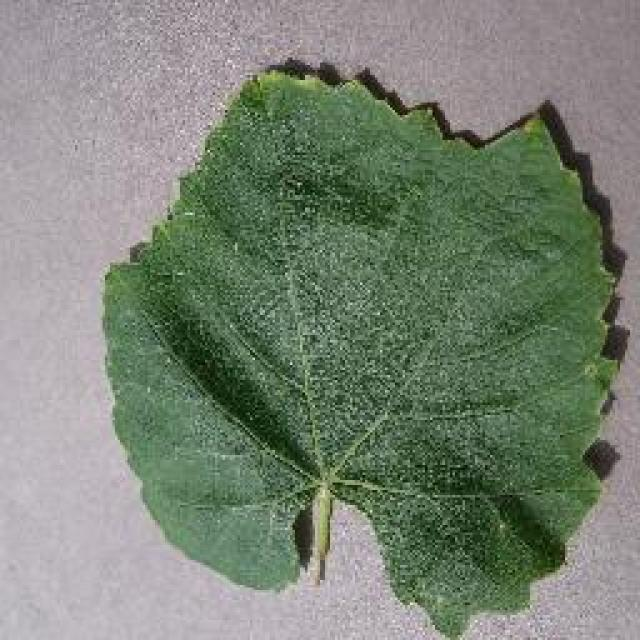Grape___healthy: (105, 72, 612, 635)
